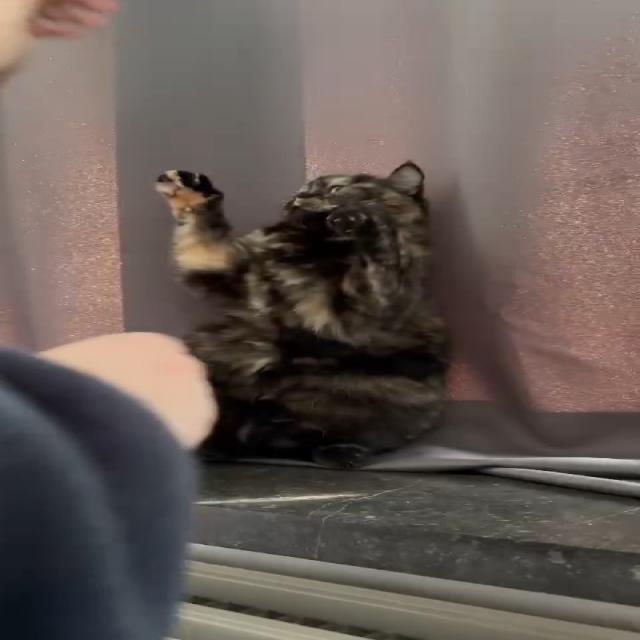authorized: (152, 159, 452, 469)
